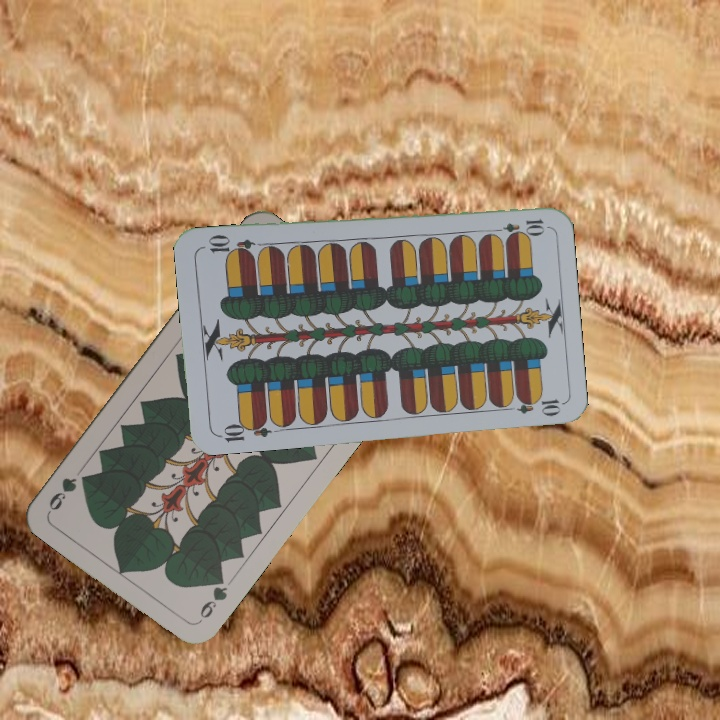E10: (214, 415, 273, 445), (488, 215, 547, 237)
G9: (194, 570, 231, 626)
